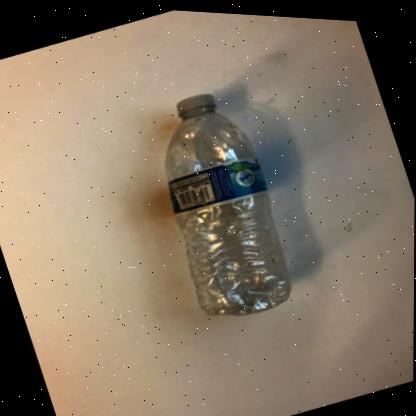Plastic: (164, 91, 291, 313)
